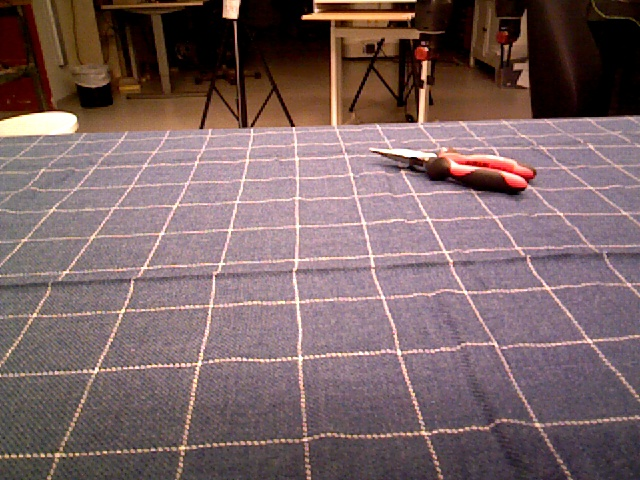plier1: (369, 146, 539, 195)
